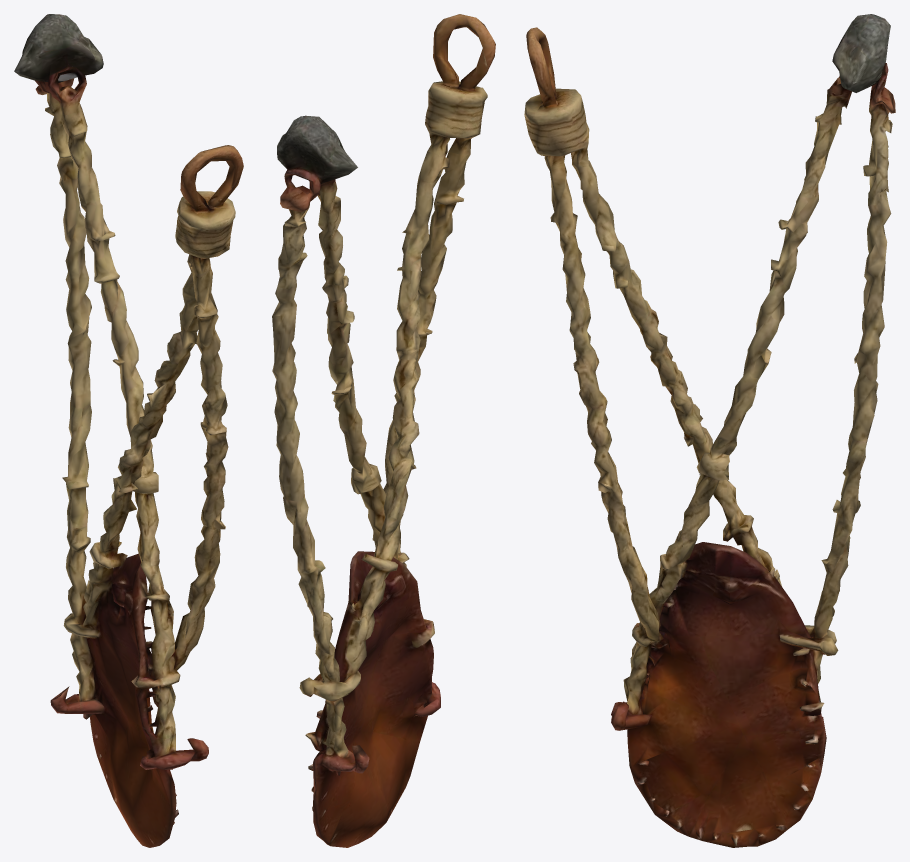
Rendered from honda.glb.
The picture shows the model from 3 angles, left to right: view 1: azimuth 30°, elevation 25°; view 2: azimuth 150°, elevation 25°; view 3: azimuth 270°, elevation 25°; orthographic projection. The views are drawn at different scales.
Visible parts, largest first — view 1: tripo_node_ed670084-493a-4645-91a6-57c503866691; view 2: tripo_node_ed670084-493a-4645-91a6-57c503866691; view 3: tripo_node_ed670084-493a-4645-91a6-57c503866691.
Part boxes in pixels (x1,y1,x2,y2): tripo_node_ed670084-493a-4645-91a6-57c503866691: (14,14,243,847); tripo_node_ed670084-493a-4645-91a6-57c503866691: (272,14,495,847); tripo_node_ed670084-493a-4645-91a6-57c503866691: (524,14,895,847).
Bounding box in the file's own units: 0.1211 × 0.9993 × 0.4083.
1 material, 1 textured.
